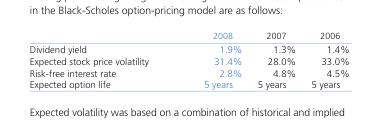table: (28, 29, 348, 89)
table column: (28, 29, 175, 89), (175, 29, 249, 89), (249, 29, 302, 89), (302, 29, 348, 89)
table column header: (28, 29, 348, 41)
table row: (28, 41, 348, 54), (28, 29, 348, 41), (28, 54, 348, 66), (28, 66, 348, 78), (28, 78, 348, 89)
